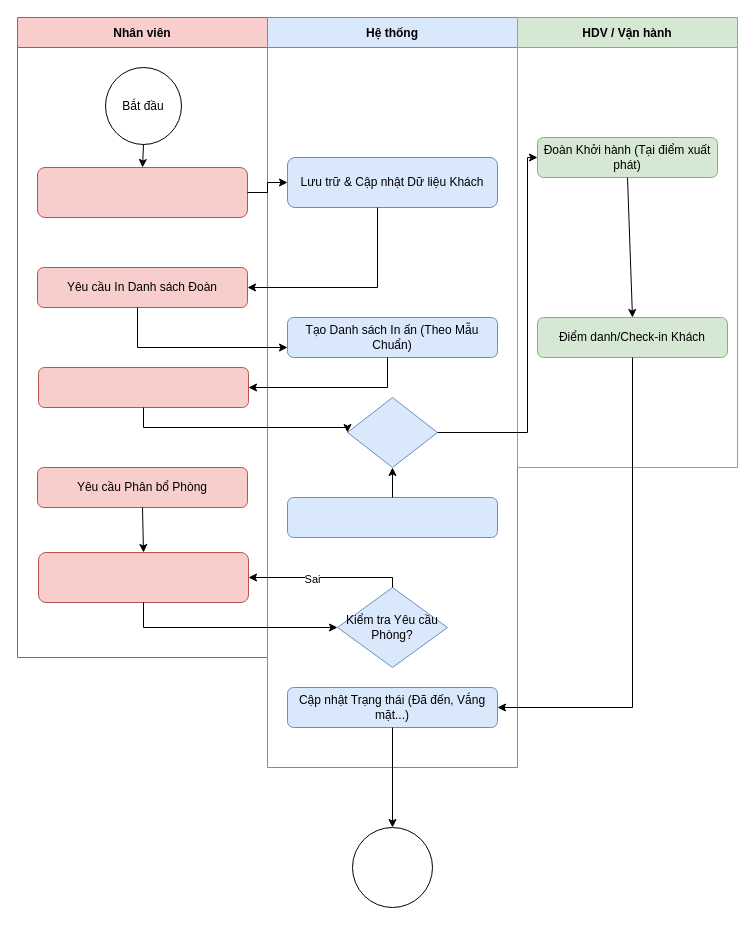
Image size: 755x925. Some labels were removed from this diagram. The shapes that lost their labels are listed below. From the top down, each one's centre as x and y in pixels, then its label:
At (x=142, y=192): "Nhập Thông tin Khách (Họ tên, Liên hệ, Giấy tờ, Yêu cầu...)".
At (x=143, y=387): "In Danh sách Đoàn (Giao HDV/Vận hành)".
At (x=392, y=432): "Kiểm tra".
At (x=392, y=517): "Lưu trữ Phân bổ Phòng Hợp lệ".
At (x=143, y=577): "Gán Phòng (Ghép/Riêng, Giường Đơn/Đôi)".
At (x=392, y=867): "Kết thúc".
